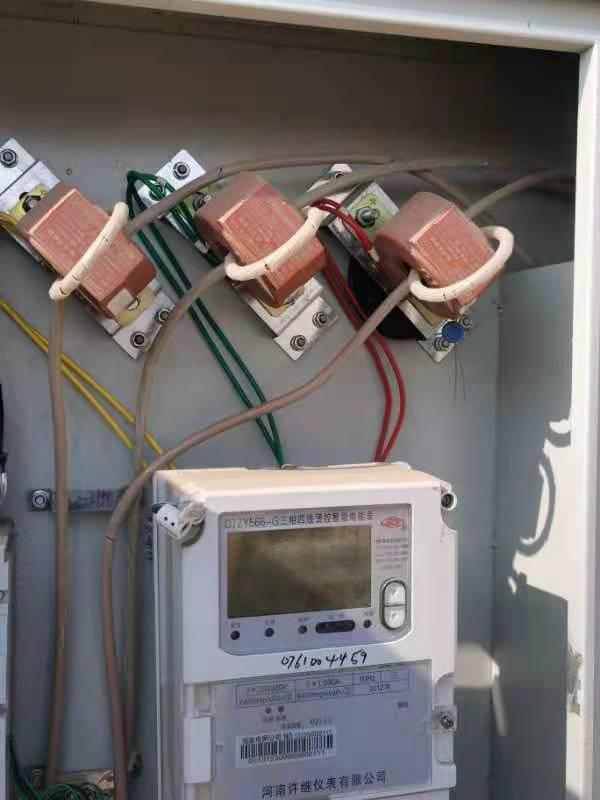digital: (183, 485, 455, 800)
